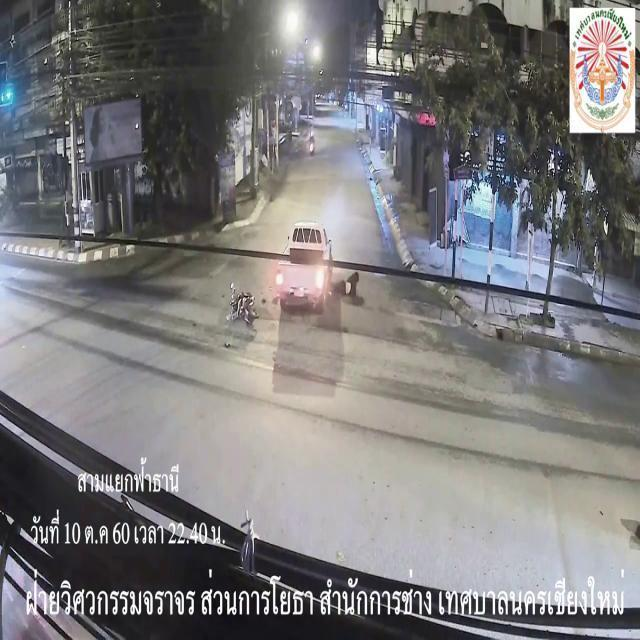accident: (230, 292, 256, 326)
